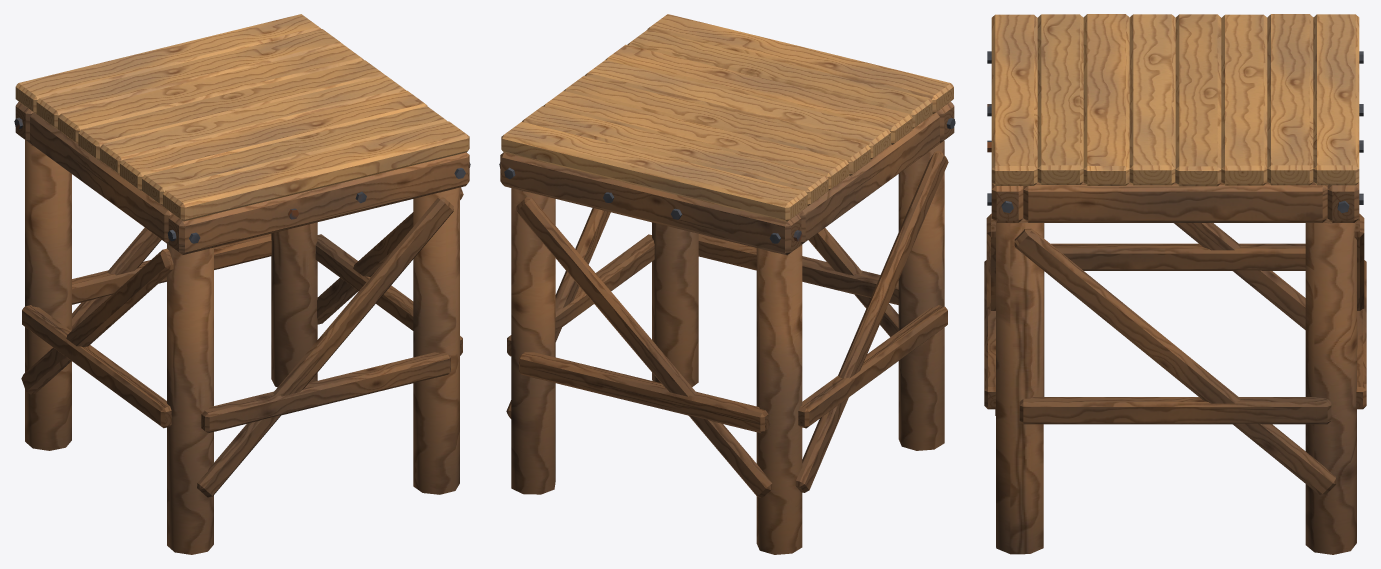
The model's file is kazik_temel.glb.
3 views of the same model, side by side, from view 1: azimuth 30°, elevation 25°; view 2: azimuth 150°, elevation 25°; view 3: azimuth 270°, elevation 25° (orthographic). The views are drawn at different scales.
Parts seen in each view (by area): view 1: kazik_temel; view 2: kazik_temel; view 3: kazik_temel.
Boxes of the visible parts, x1,y1,x2,y2 form: kazik_temel: [14, 14, 470, 554]; kazik_temel: [499, 14, 955, 554]; kazik_temel: [984, 14, 1366, 554].
Size of the model in its own units: 3.12 by 3.5 by 3.12.
Materials: 1 (1 with a texture image).
